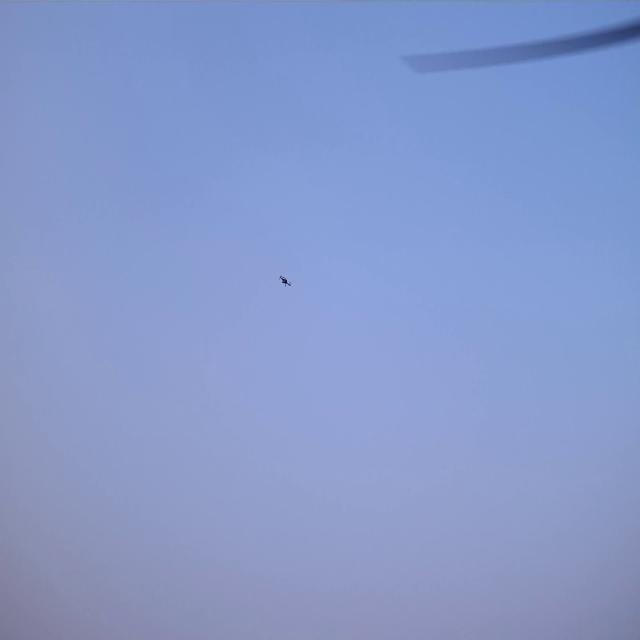UAV: (279, 276, 290, 285)
